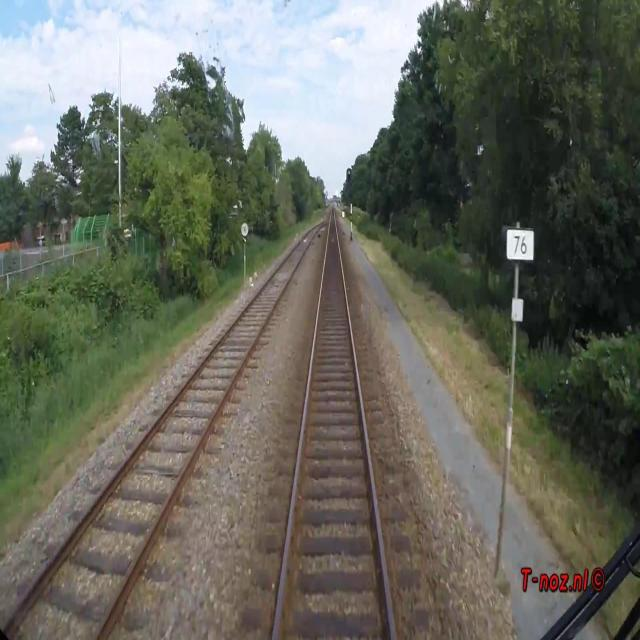rail-track: (4, 220, 328, 639), (277, 204, 391, 639)
